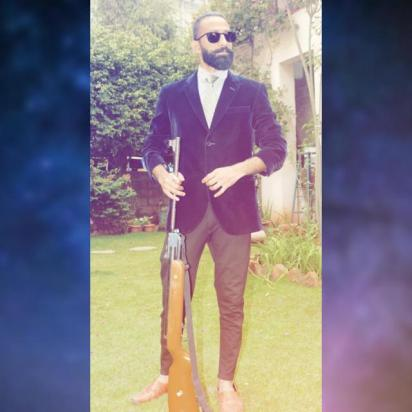Gun: (163, 134, 230, 410)
